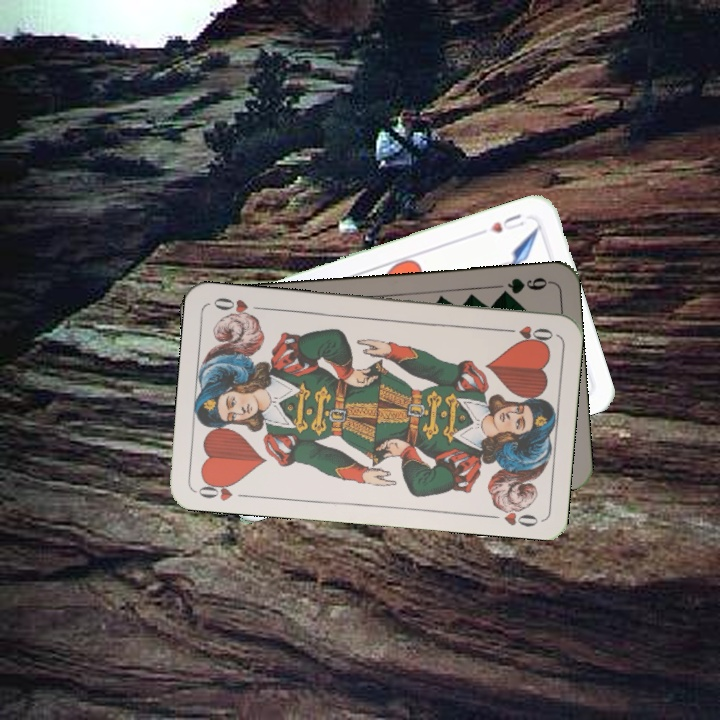G9: (495, 273, 553, 300)
HO: (193, 475, 252, 503), (498, 321, 556, 345)
HU: (486, 210, 528, 236)
